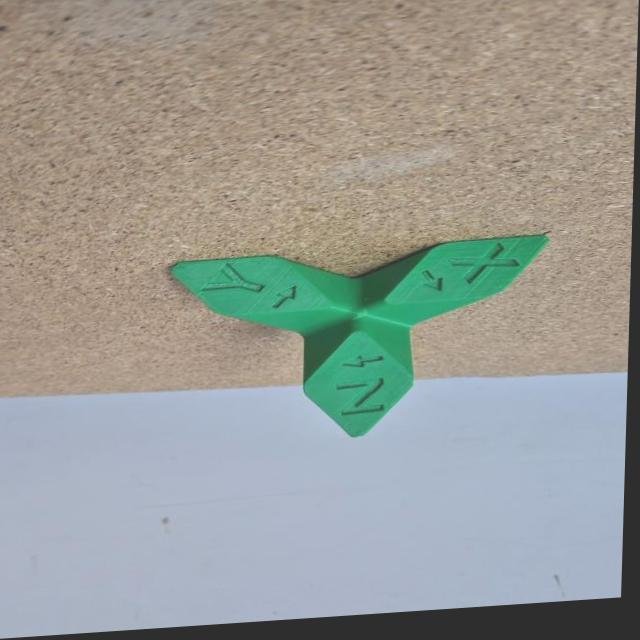eje: (156, 229, 549, 455)
